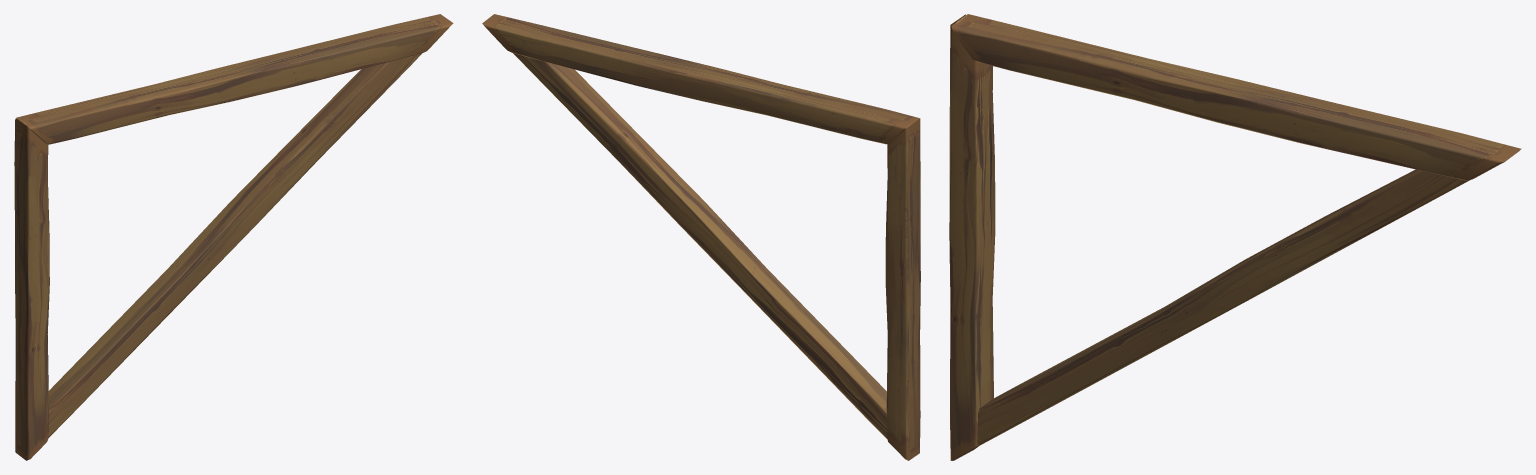
Rendered from SM_MOD_wall_sloped_inverted_frame_town.fbx.
The picture shows the model from 3 angles, left to right: view 1: azimuth 30°, elevation 25°; view 2: azimuth 150°, elevation 25°; view 3: azimuth 330°, elevation 25°; orthographic projection. The views are drawn at different scales.
Visible parts, largest first — view 1: SM_MOD_wall_sloped_inverted_frame_town_LOD0; view 2: SM_MOD_wall_sloped_inverted_frame_town_LOD0; view 3: SM_MOD_wall_sloped_inverted_frame_town_LOD0.
Part boxes in pixels (<box>): SM_MOD_wall_sloped_inverted_frame_town_LOD0: <box>14,14,453,460</box>; SM_MOD_wall_sloped_inverted_frame_town_LOD0: <box>482,14,920,460</box>; SM_MOD_wall_sloped_inverted_frame_town_LOD0: <box>949,14,1521,460</box>.
Size of what is drawn, in the model's own units: 400 by 300 by 25.08.
